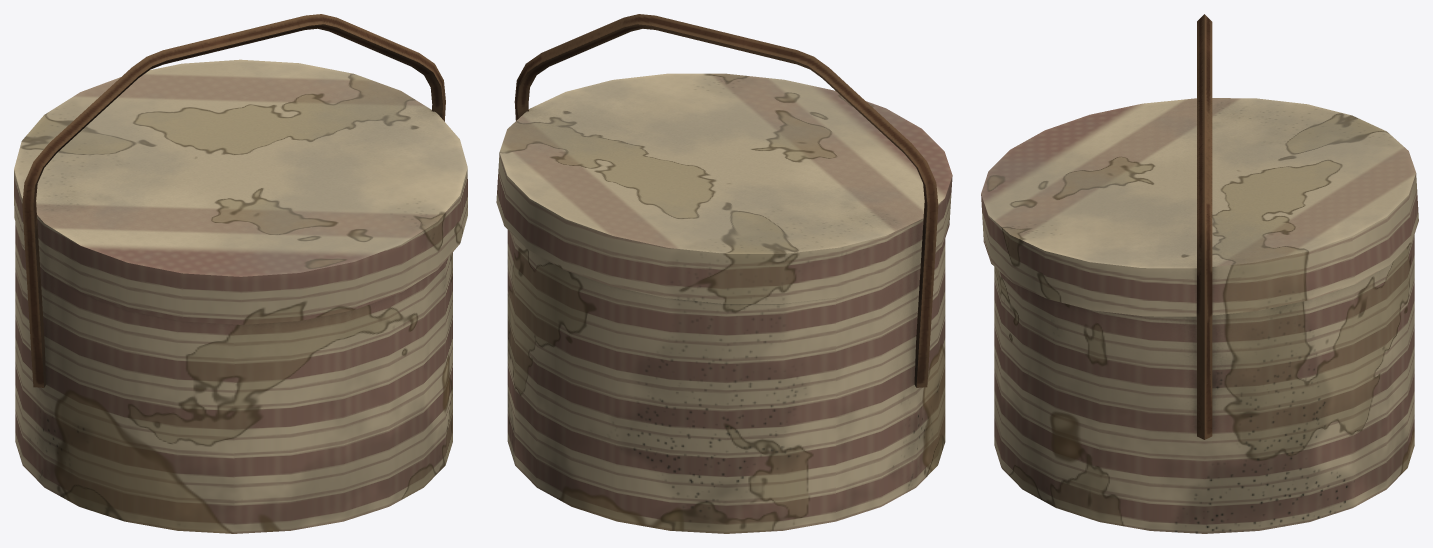
The model's file is HatBox.fbx.
The picture shows the model from 3 angles, left to right: view 1: azimuth 30°, elevation 25°; view 2: azimuth 150°, elevation 25°; view 3: azimuth 270°, elevation 25°; orthographic projection. The views are drawn at different scales.
Visible parts, largest first — view 1: HatBox; view 2: HatBox; view 3: HatBox.
Boxes of the visible parts, bbox=[...] form: HatBox: bbox=[14, 14, 467, 533]; HatBox: bbox=[496, 14, 952, 533]; HatBox: bbox=[981, 14, 1418, 533].
Bounding box in the file's own units: 1.47 × 1.36 × 1.37.
Materials: 1 (1 with a texture image).
